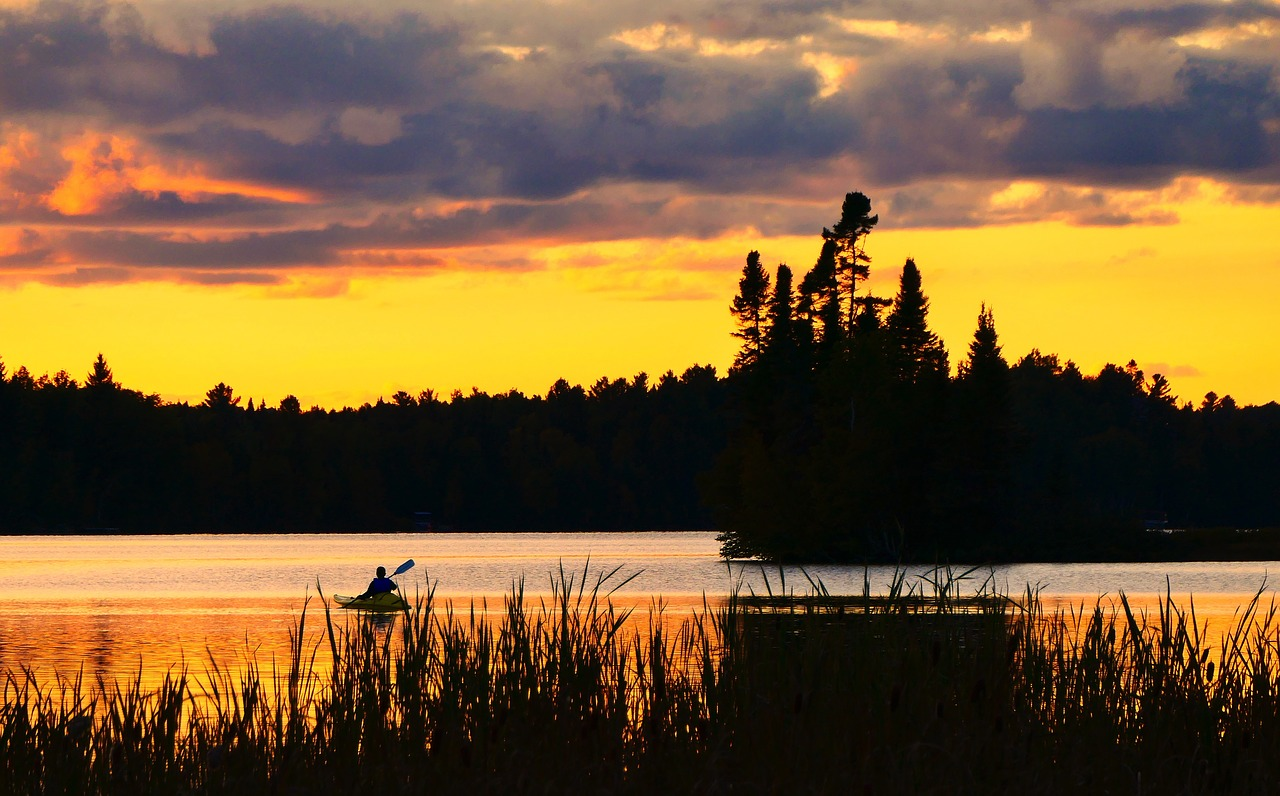kayak: (332, 593, 413, 612)
